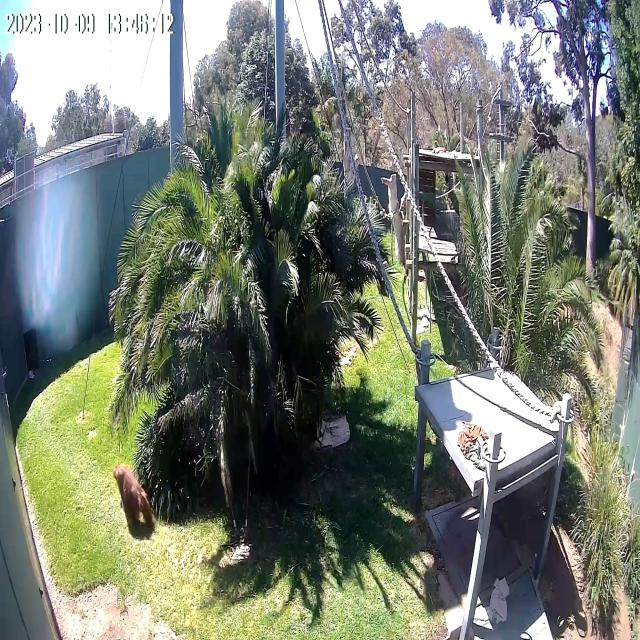orangutan: (112, 463, 154, 533)
